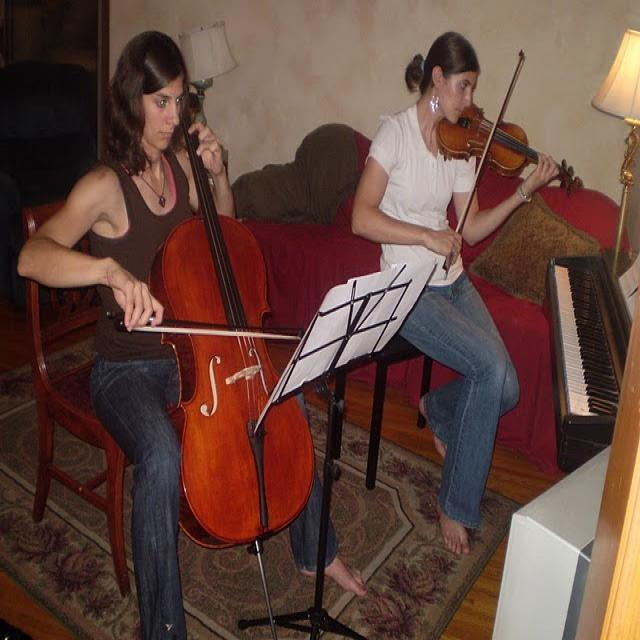cello: (146, 91, 318, 552)
violin: (440, 100, 584, 193)
